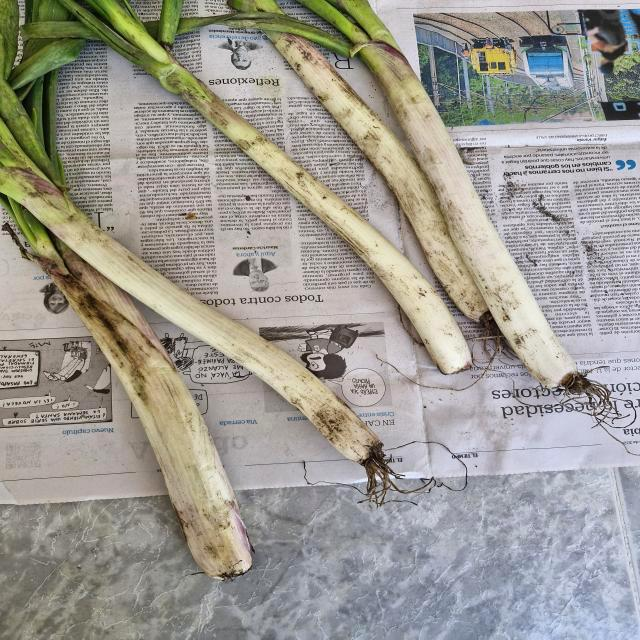green_onion: (0, 0, 305, 491)
